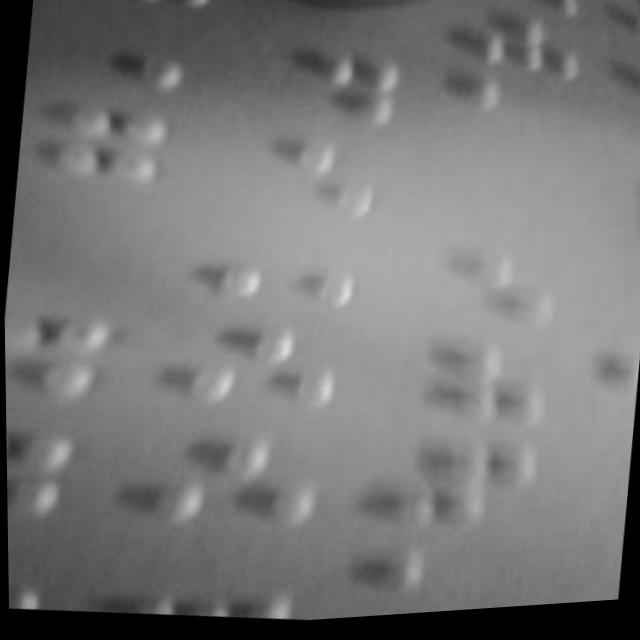braiile: (143, 430, 325, 550), (202, 120, 389, 235), (175, 316, 350, 433), (199, 210, 374, 323), (376, 430, 546, 546), (226, 41, 409, 144), (13, 96, 175, 205), (386, 338, 552, 443), (22, 0, 190, 103), (403, 243, 562, 344), (135, 542, 300, 631), (4, 303, 114, 415), (5, 426, 79, 525), (6, 521, 63, 613)
